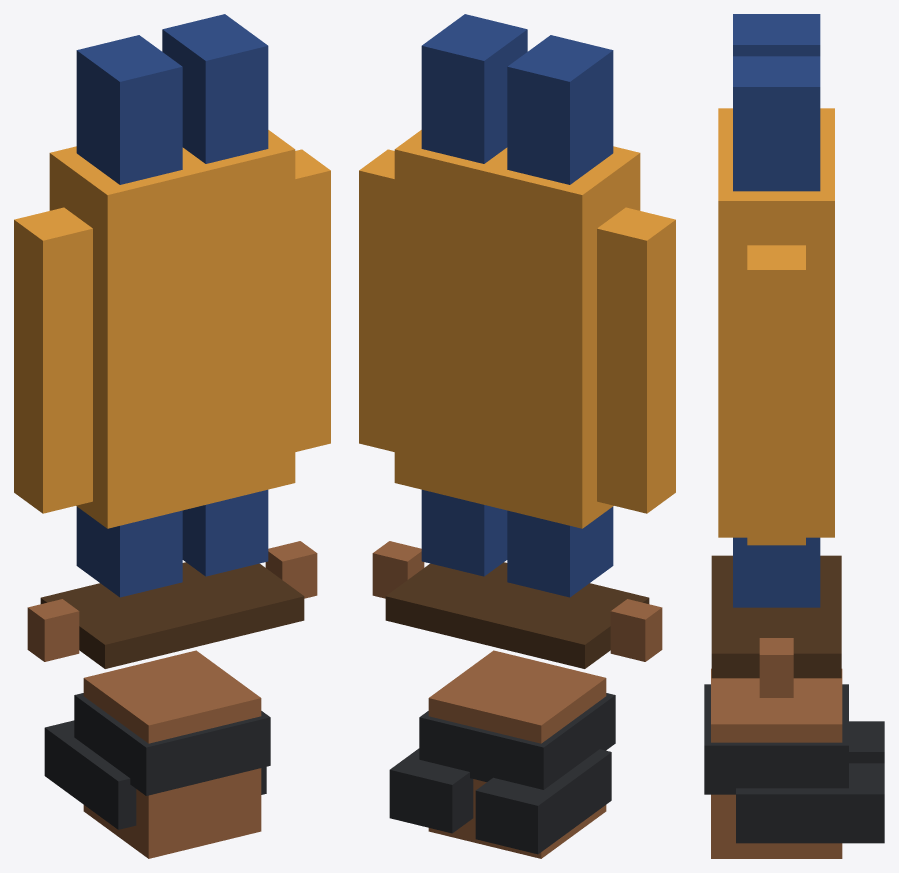
Rendered from civilian-010.glb.
The picture shows the model from 3 angles, left to right: view 1: azimuth 30°, elevation 25°; view 2: azimuth 150°, elevation 25°; view 3: azimuth 270°, elevation 25°; orthographic projection.
Visible parts, largest first — view 1: civilian_civilian-010; view 2: civilian_civilian-010; view 3: civilian_civilian-010.
Part boxes in pixels (x1,y1,x2,y2): civilian_civilian-010: [14, 14, 330, 858]; civilian_civilian-010: [359, 14, 675, 858]; civilian_civilian-010: [704, 14, 884, 858].
Size of the model in its own units: 0.4968 by 1.28 by 0.2672.
